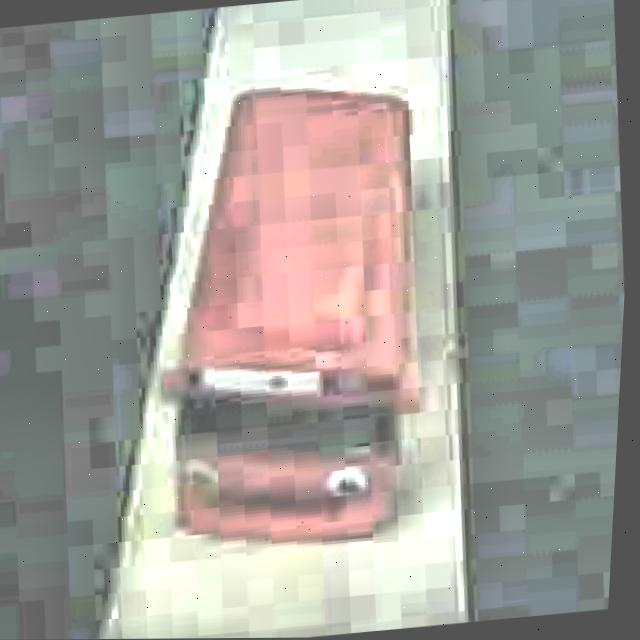bus: (120, 66, 452, 562)
